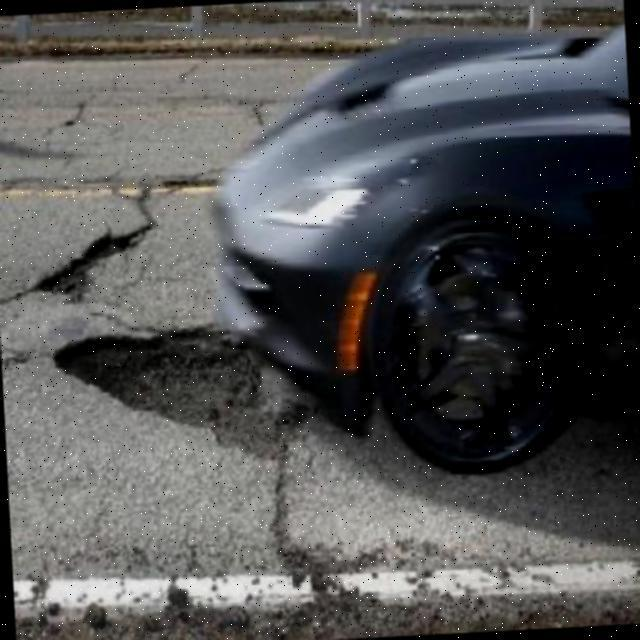Pothole: (52, 329, 308, 461), (33, 224, 153, 303)
